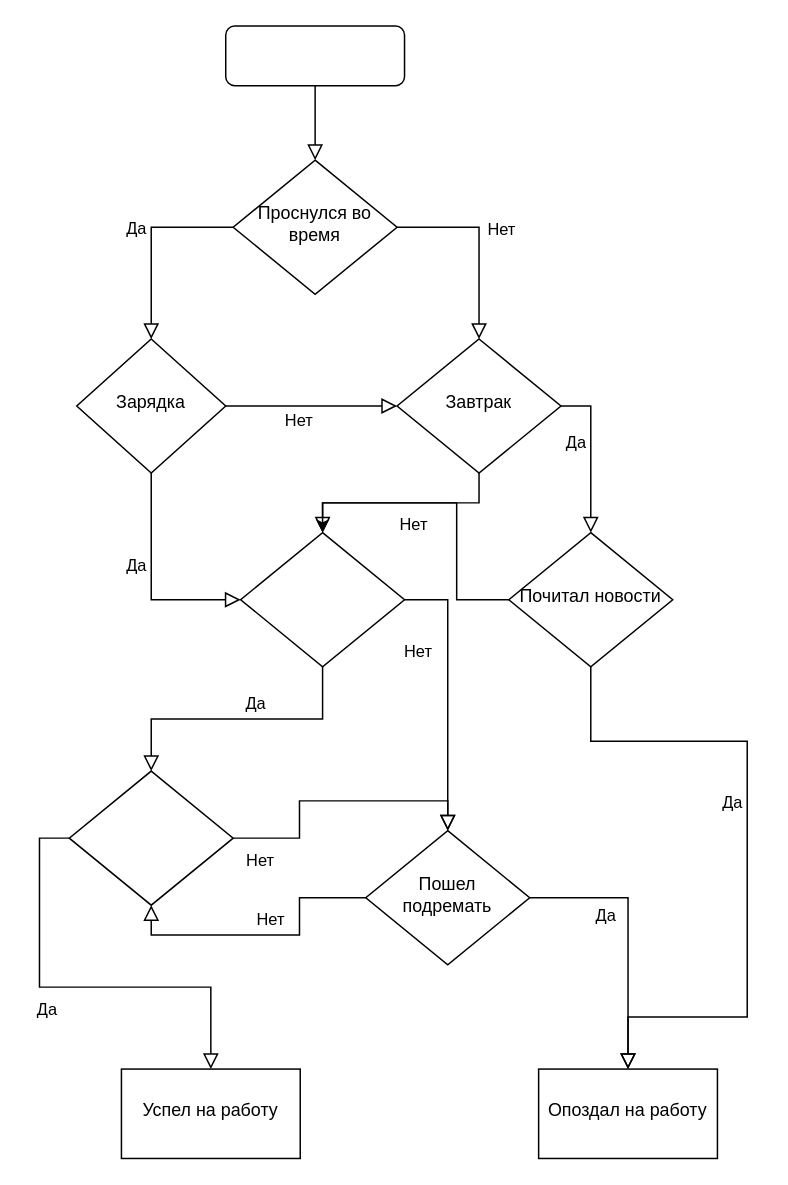
Image size: 788x1185. Some labels were removed from this diagram. The shapes that lost their labels are listed below. From the top down, each one's centre as x and y in pixels, then its label:
At [314,55]: "Поход на работу".
At [322,599]: "Душь".
At [150,837]: "Одеваюсь".
